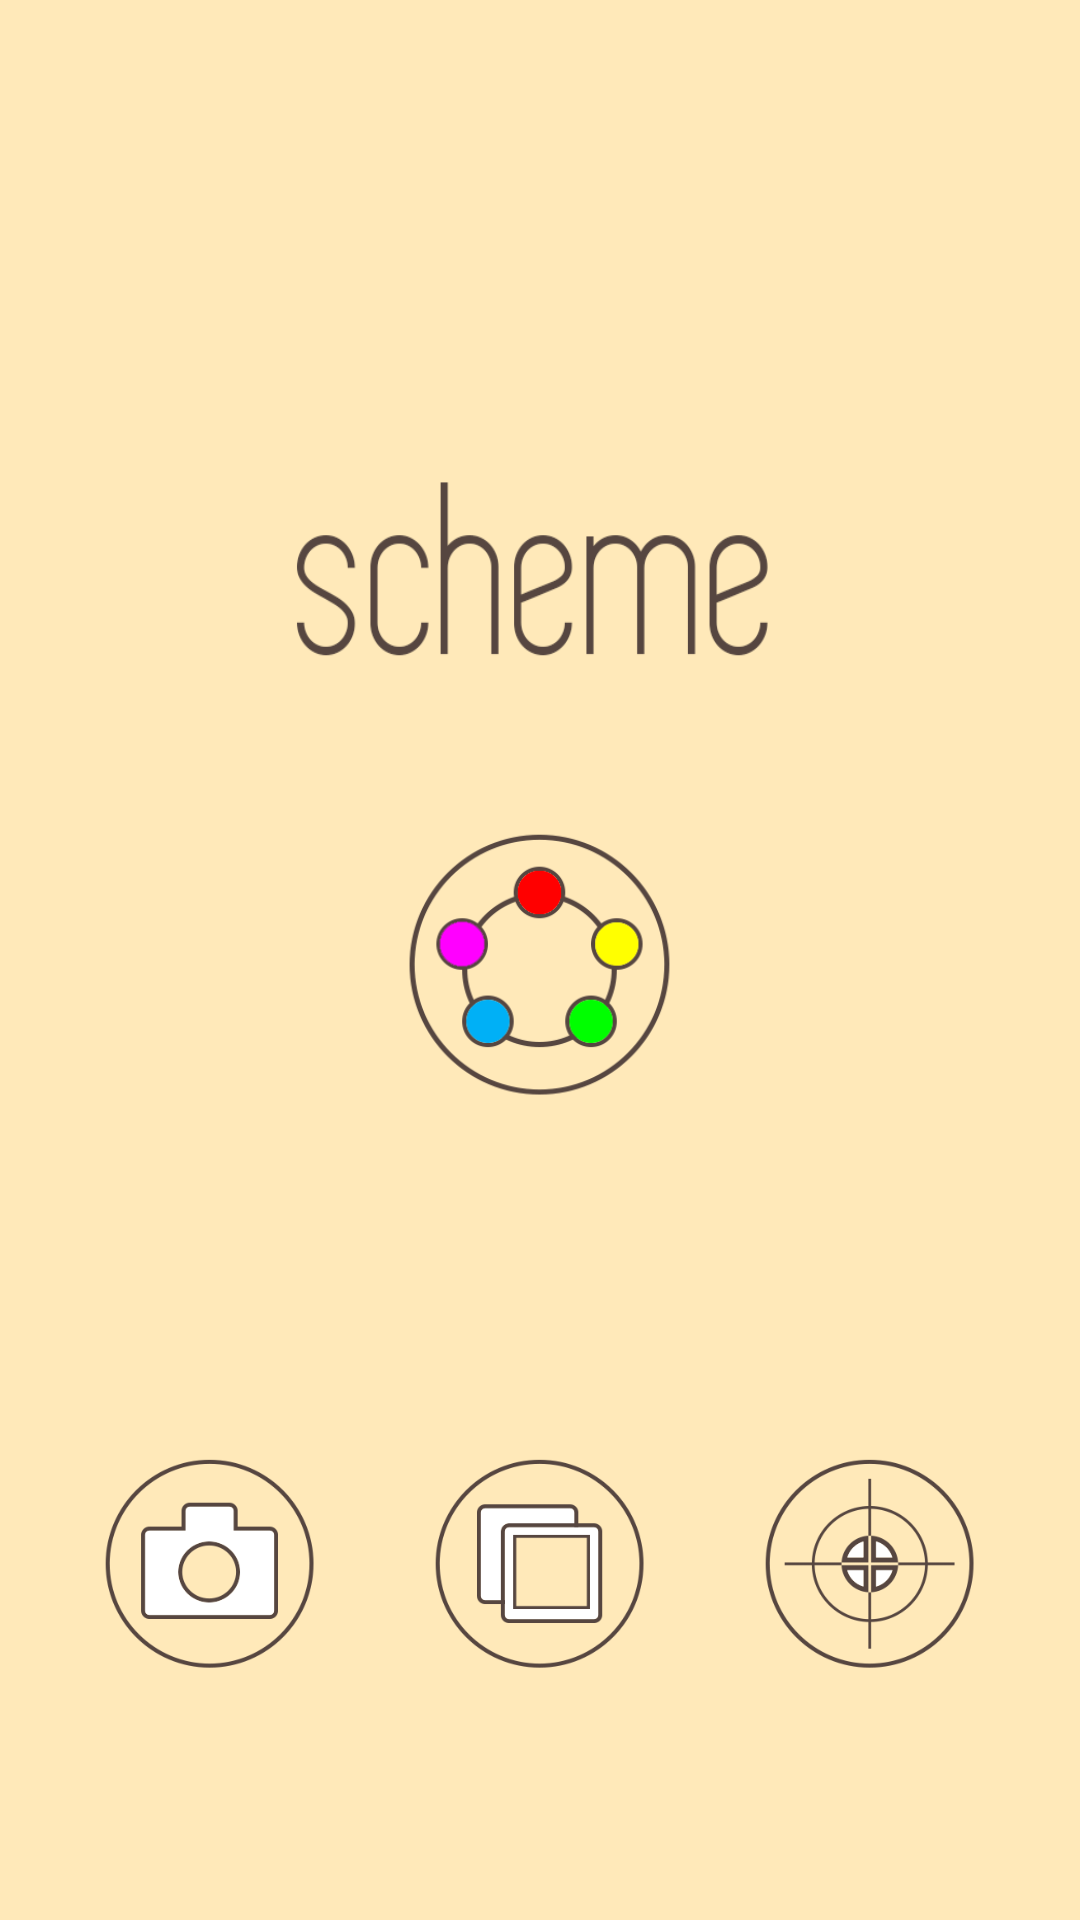

Icon click points for this 1080px×1920px phone screenshot, format [x,y]:
palettesicon: [539,964]
To Camera: [209,1564]
To Gallery: [539,1564]
To Picker: [869,1564]
